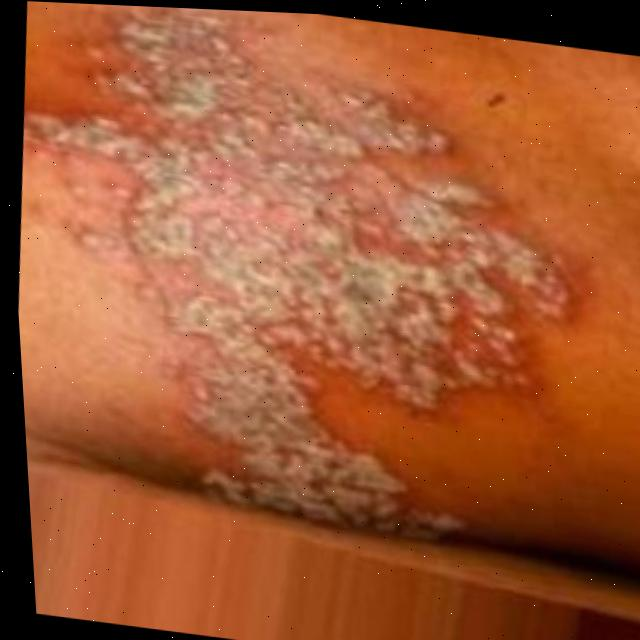Shingles: (1, 14, 578, 536)
